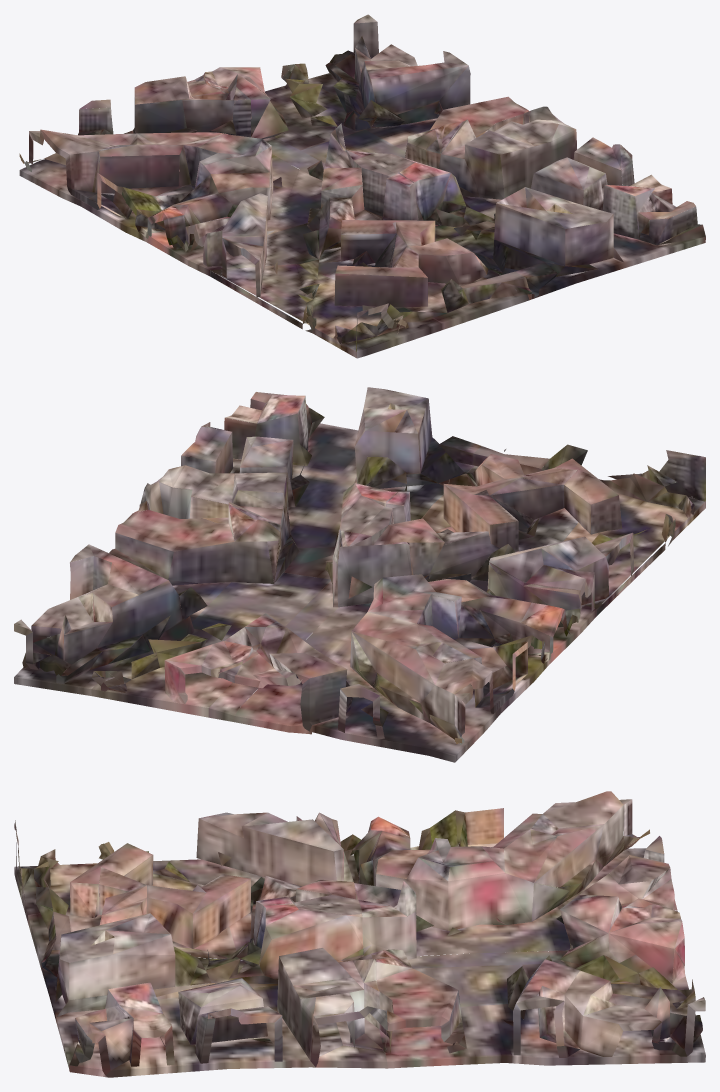
3 renders of one model, top to bottom at view 1: azimuth 30°, elevation 25°; view 2: azimuth 150°, elevation 25°; view 3: azimuth 270°, elevation 25°, orthographic. The views are drawn at different scales.
Parts seen in each view (by area): view 1: Mesh_0; view 2: Mesh_0; view 3: Mesh_0.
Part boxes in pixels (x1,y1,x2,y2): Mesh_0: [19, 14, 705, 358]; Mesh_0: [14, 387, 705, 762]; Mesh_0: [14, 791, 705, 1077].
Size of the model in its own units: 270 by 49.05 by 330.
2 materials, 2 textured.
